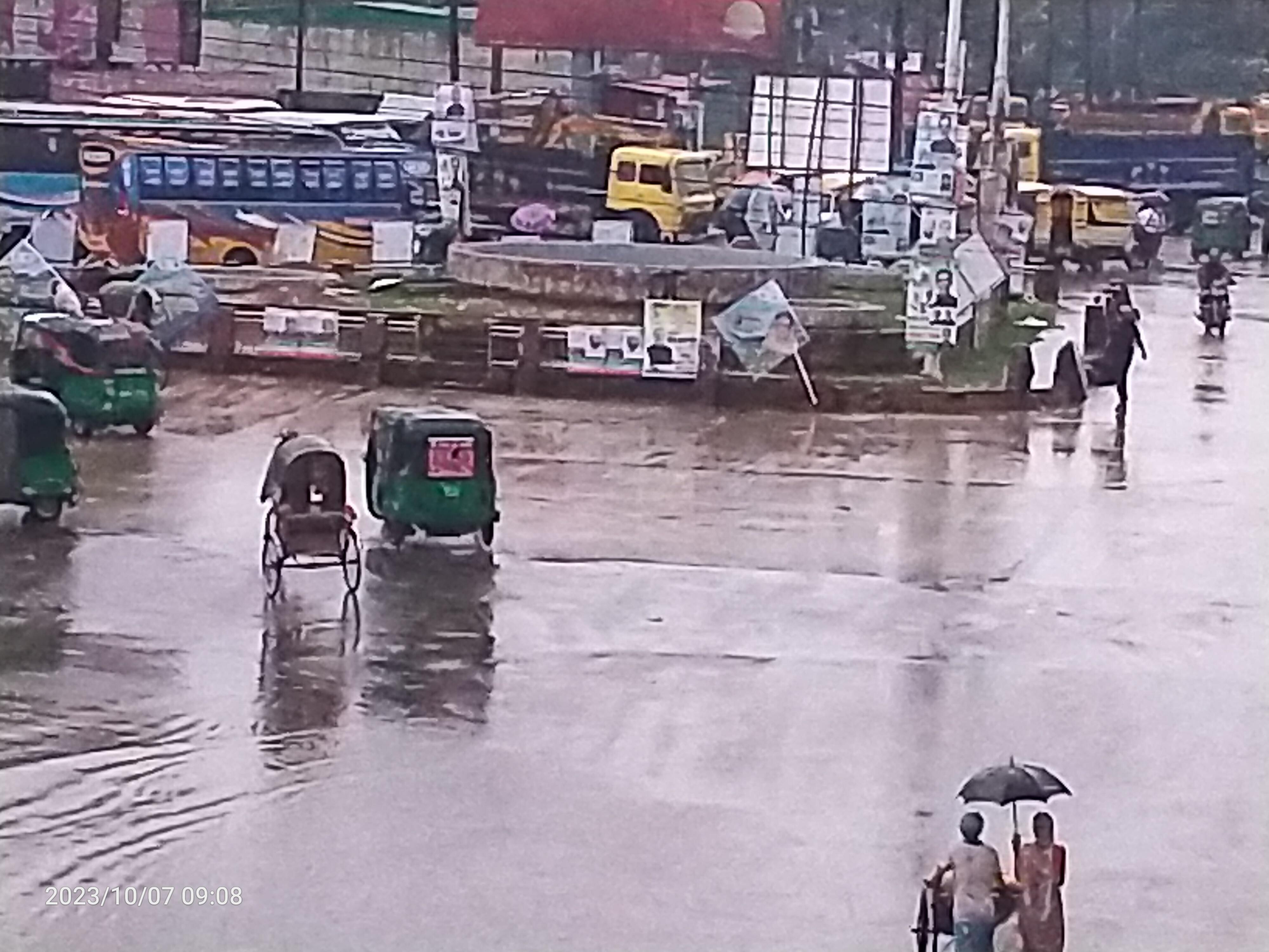Bike: (1183, 231, 1246, 364)
Bus: (0, 4, 393, 299), (63, 77, 468, 294)
Car: (233, 408, 391, 624), (1029, 170, 1156, 290)
Truck: (977, 86, 1257, 213), (470, 107, 716, 249)
